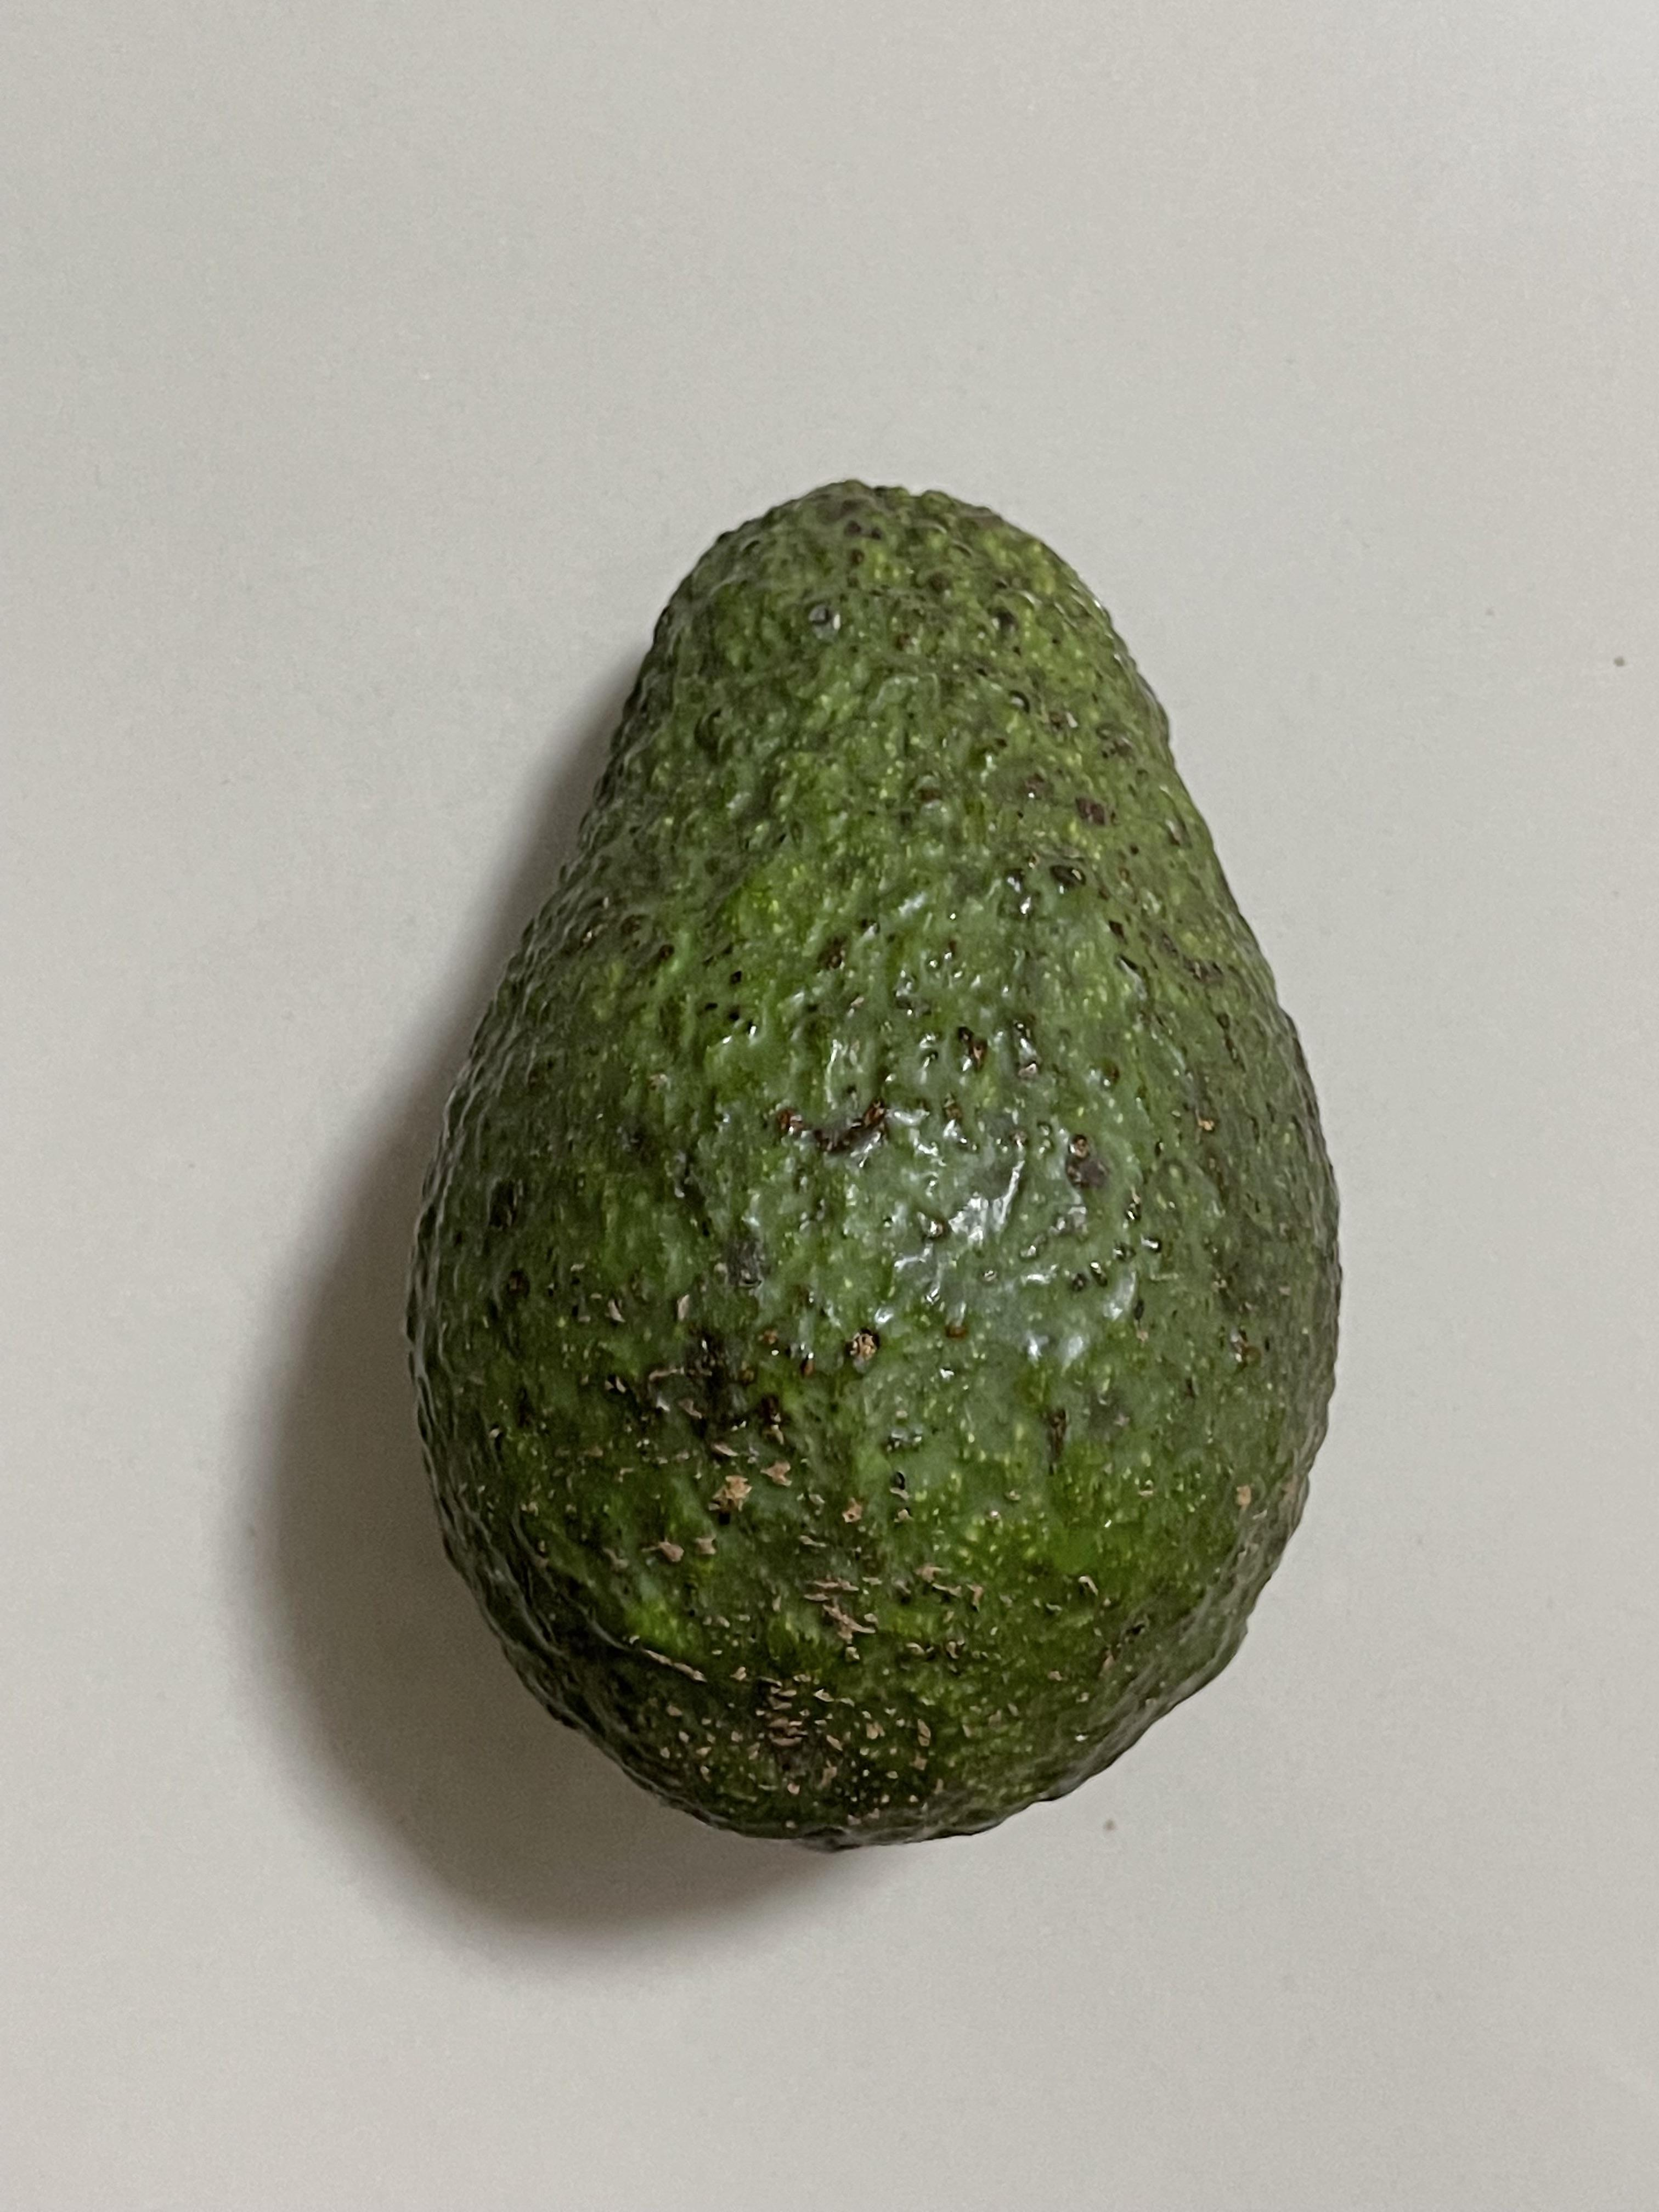Level1: (378, 434, 1371, 1876)
